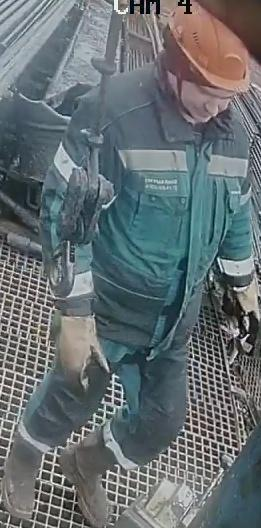gloves: (52, 308, 111, 393), (223, 277, 261, 343)
helmet: (164, 0, 253, 95)
vest: (69, 98, 261, 354)
